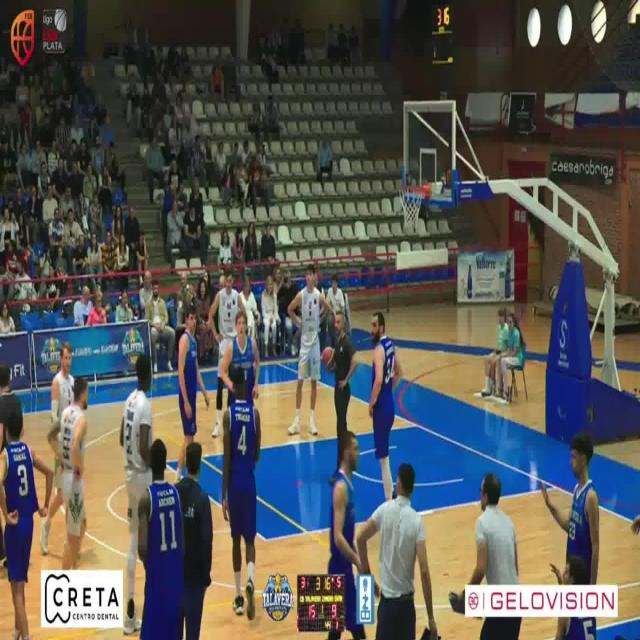ball: (322, 345, 334, 369)
basket: (403, 178, 430, 230)
bench person: (357, 463, 438, 640), (138, 439, 183, 640), (543, 431, 601, 585), (328, 431, 366, 640), (175, 441, 213, 640), (471, 473, 520, 585), (450, 591, 465, 613)
player: (0, 412, 51, 640), (222, 365, 261, 620), (119, 353, 152, 635), (47, 377, 87, 569), (288, 262, 330, 435), (369, 311, 403, 500), (176, 305, 209, 483), (208, 267, 240, 437), (220, 309, 259, 402), (50, 341, 73, 422)
referee: (330, 311, 357, 473), (0, 363, 21, 452)
